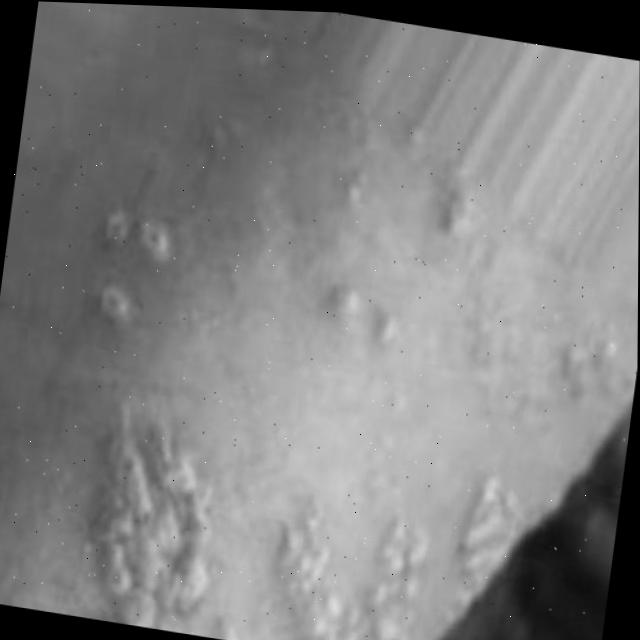Shingles: (67, 407, 539, 640), (87, 210, 175, 319)
